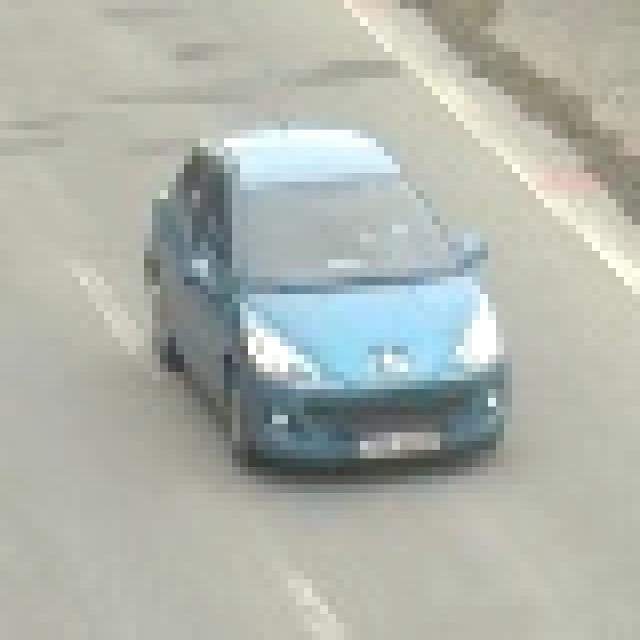blue: (137, 128, 512, 476)
